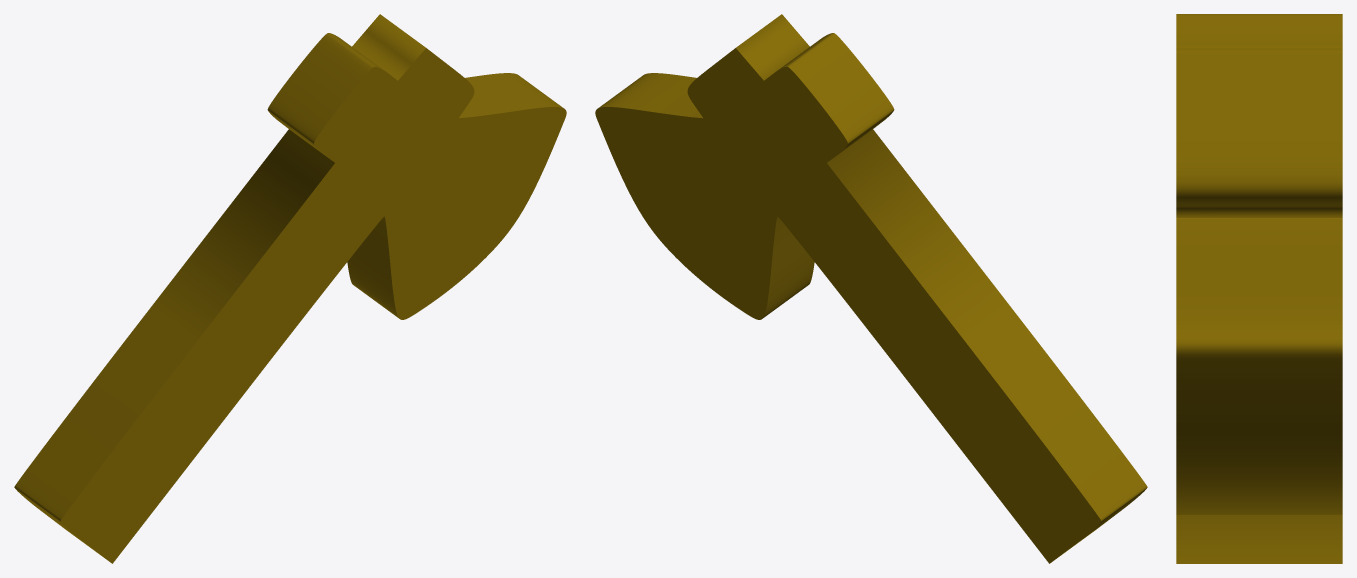
Rendered from Axe.obj.
3 views of the same model, side by side, from view 1: azimuth 30°, elevation 25°; view 2: azimuth 150°, elevation 25°; view 3: azimuth 270°, elevation 25° (orthographic). The views are drawn at different scales.
Visible parts, largest first — view 1: Curve.001_path44; view 2: Curve.001_path44; view 3: Curve.001_path44.
Part boxes in pixels (<box>): Curve.001_path44: <box>14,14,566,563</box>; Curve.001_path44: <box>595,14,1147,563</box>; Curve.001_path44: <box>1176,14,1342,563</box>.
Bounding box in the file's own units: 0.5051 × 0.4192 × 0.08.
